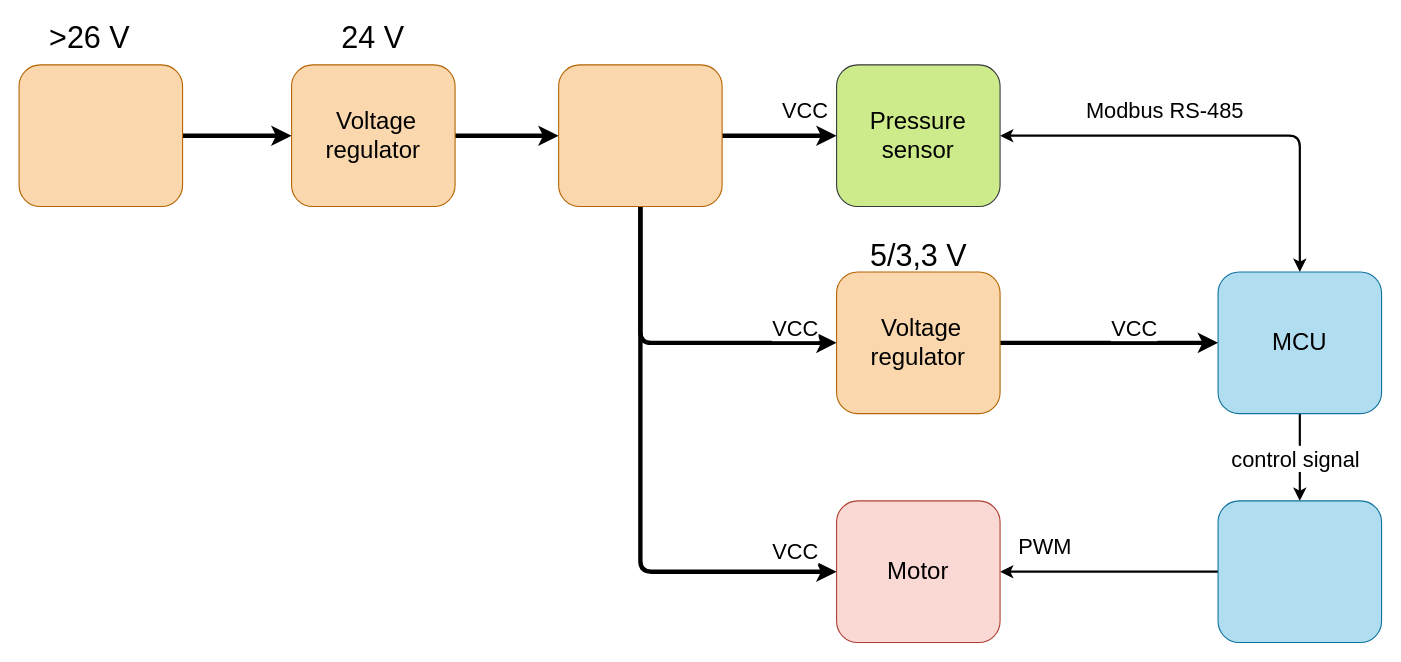
Some shapes in this 1401 by 662 pixel diagram are drawn without their labels. Each missing label, with the centre of its shape:
Input power: point 100,135
Motor Driver: point 1299,571
Power distribution: point 640,135
